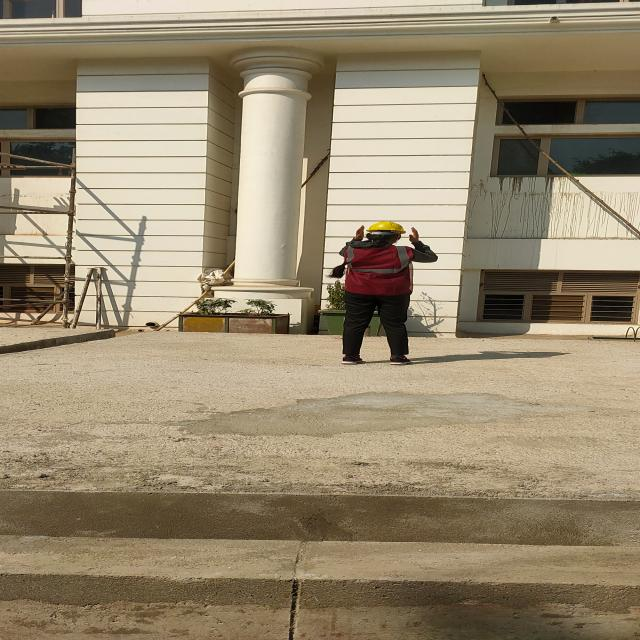safe: (340, 222, 421, 366)
